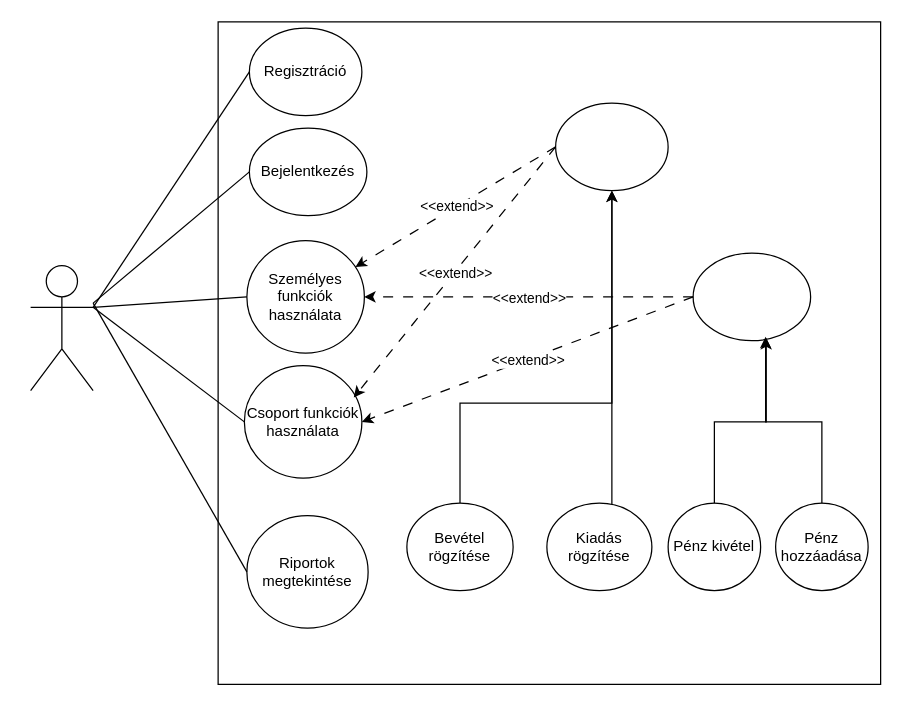
The diagram is 903 pixels wide and 706 high, and some of its shapes have lost their labels. The shapes that lost their labels are listed below. From the top down, each one's centre as x and y in pixels, then its label:
(611,146): Tranzakció rögzítése
(751,296): Megtakarítás létrehozása
(61,327): Felhasználó
